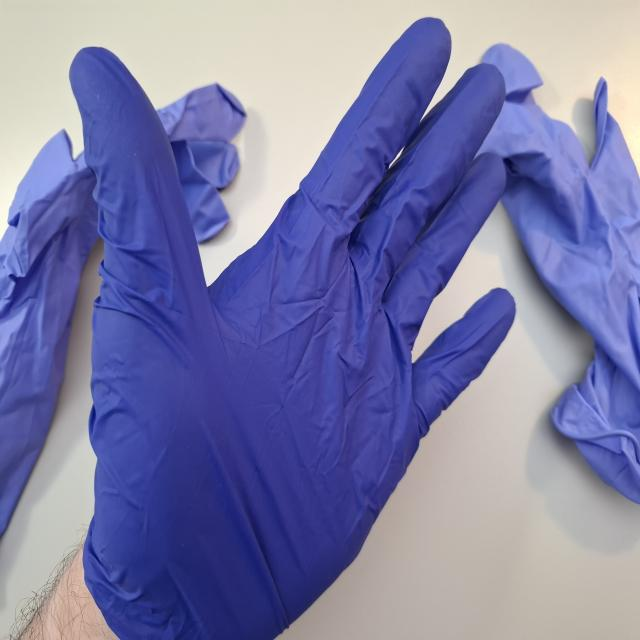glove_on: (65, 12, 517, 640)
